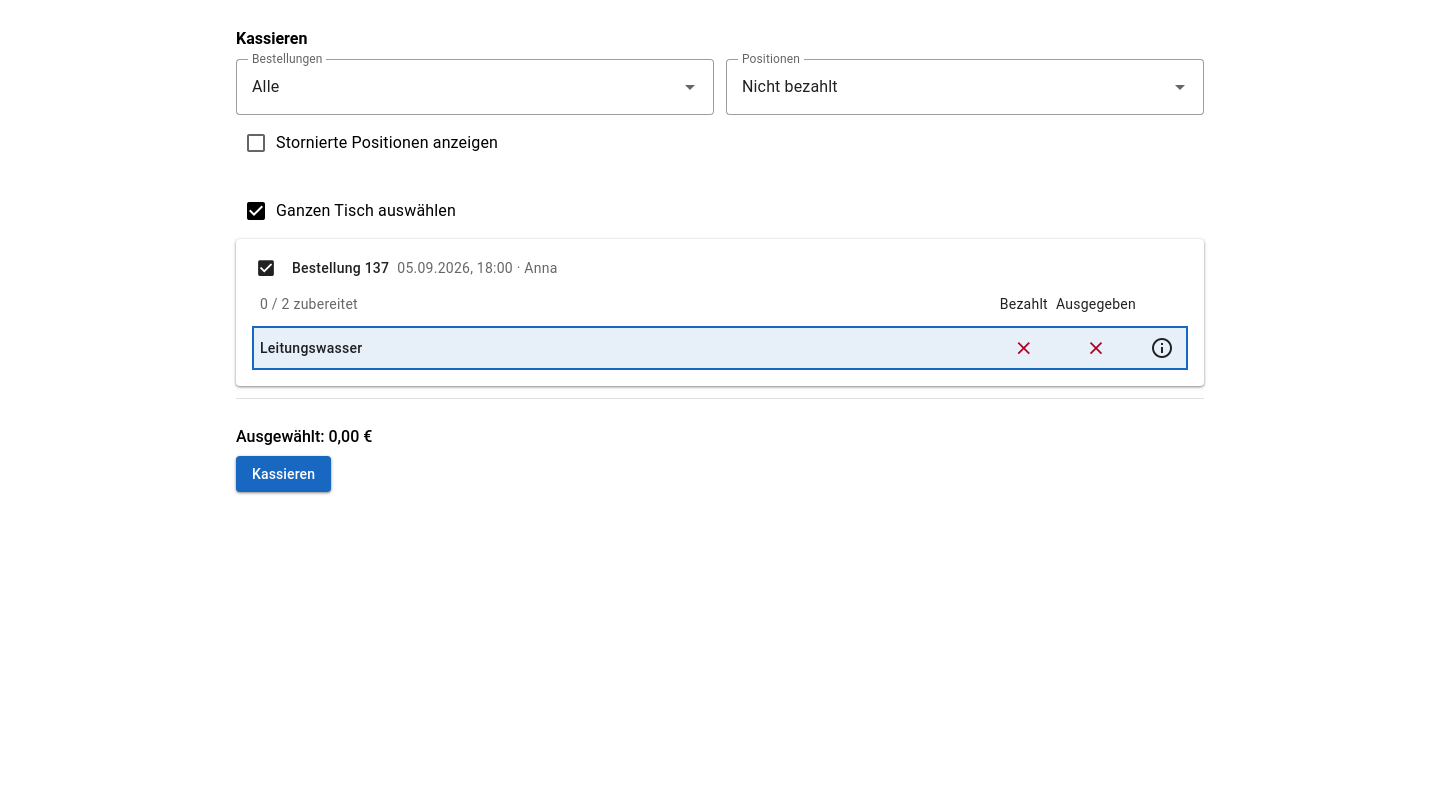
Scenario: the settle button under the selected total › opens the amount page for a selection that costs nothing as well
Click the button with test id "settle".
click(284, 474)  # box x1=236 y1=456 x2=331 y2=492
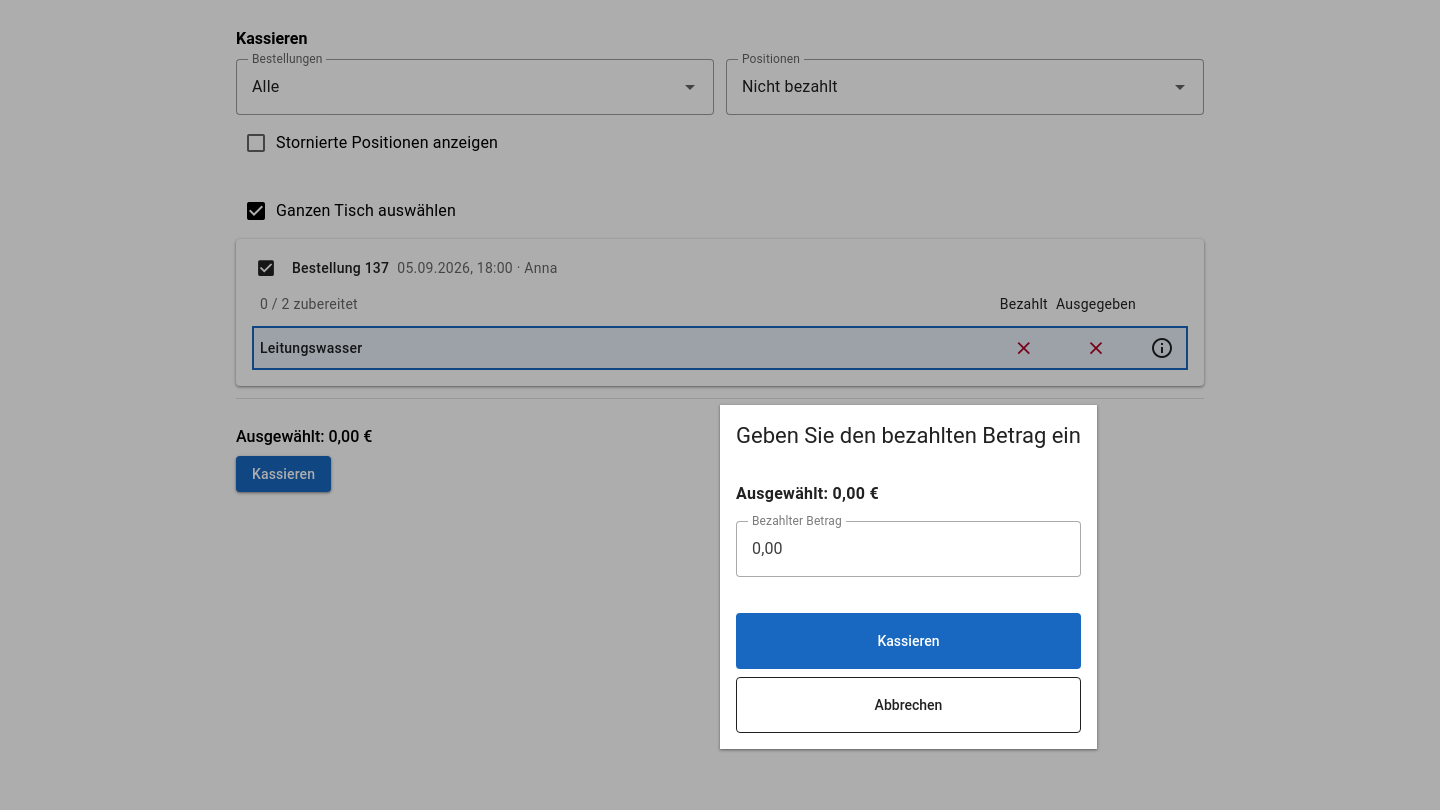
Result: the field labelled "Bezahlter Betrag" holds "0,00" at x1=736 y1=521 x2=1081 y2=577
